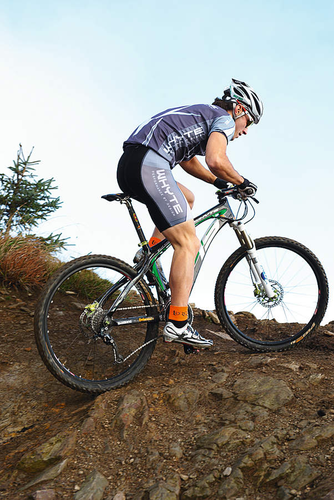bikerider: (20, 60, 334, 397)
